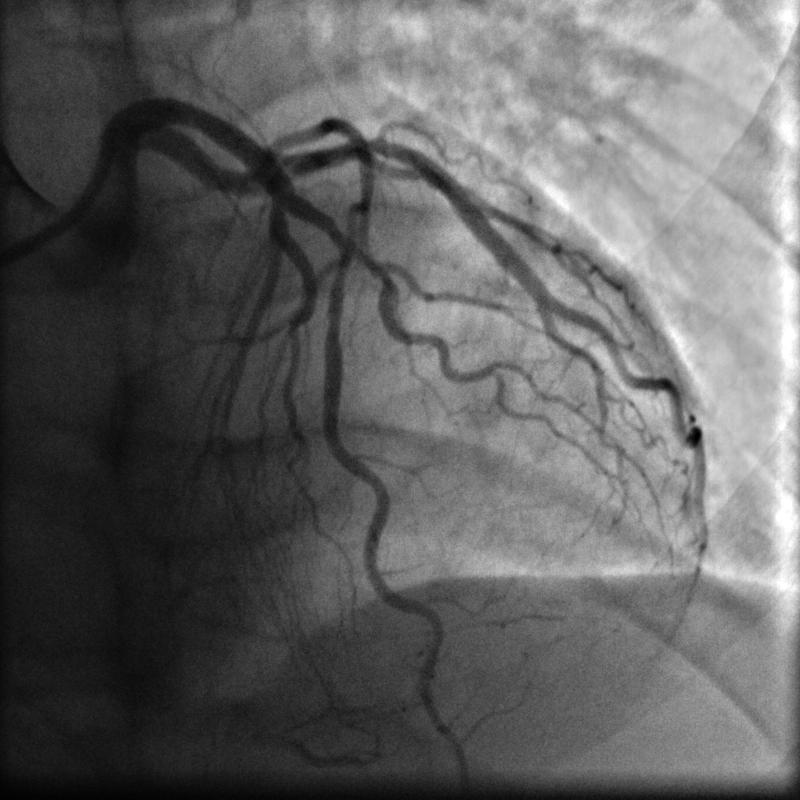Stenosis: (328, 239, 354, 313)
